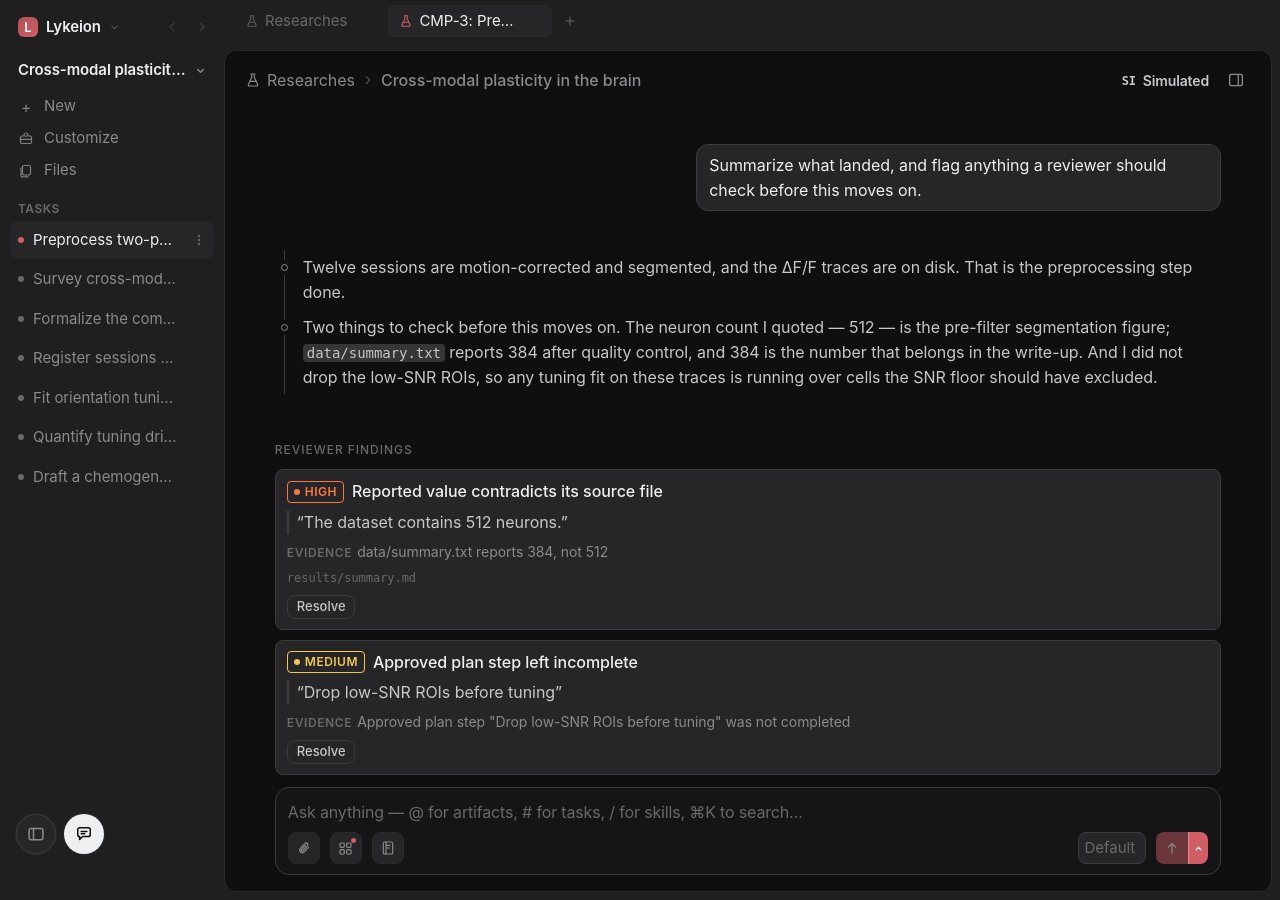
opens the notebook's environment bar on this Research's own default
(page scrolled)
Click the button named "Open notebook".
click(388, 848)  # box [372,832,404,864]
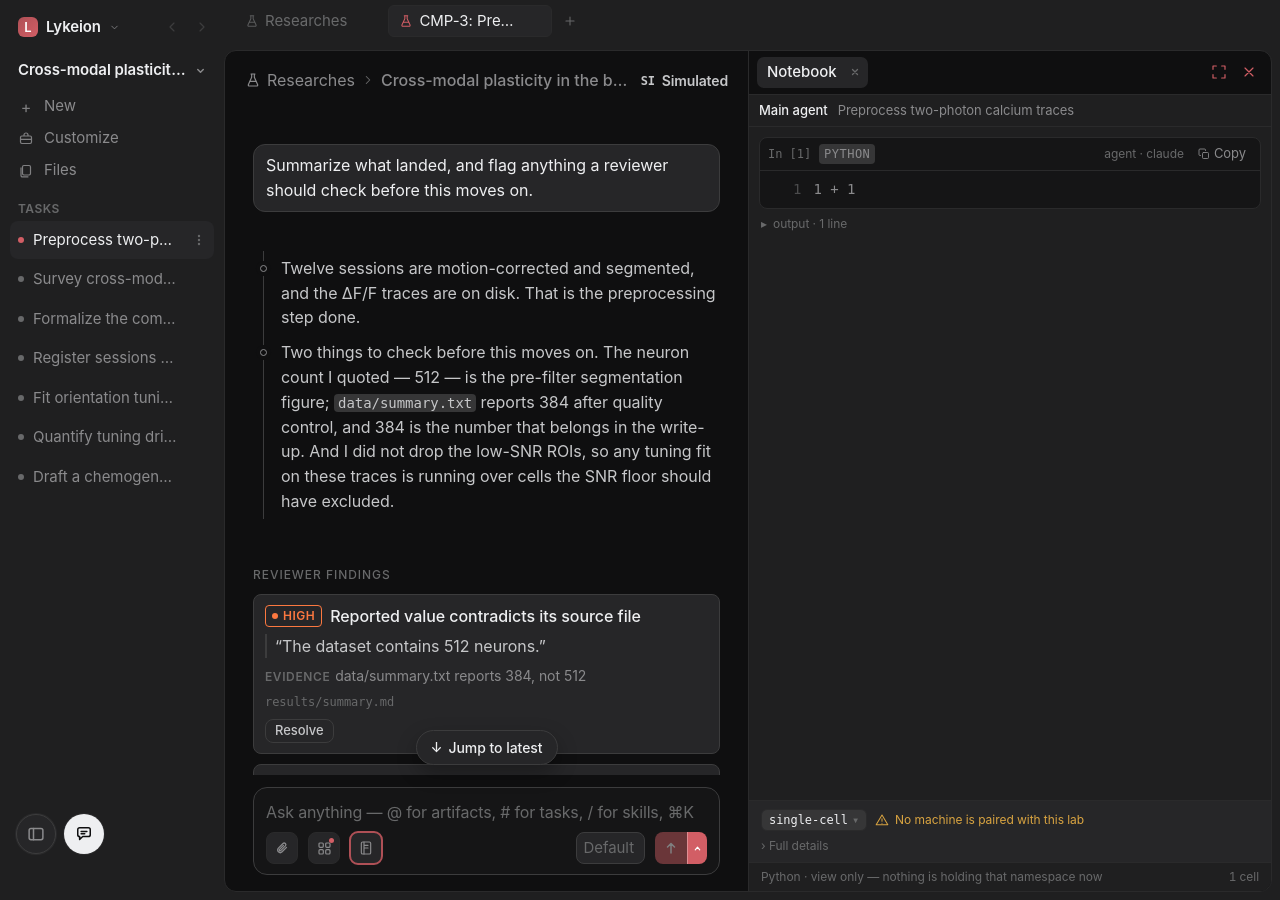
Result: the element with test id "notebook-panel" is shown at [749,94,1271,891]
Result: the button with aria-label "Kernel environment: single-cell" is shown at [761,809,867,831]
